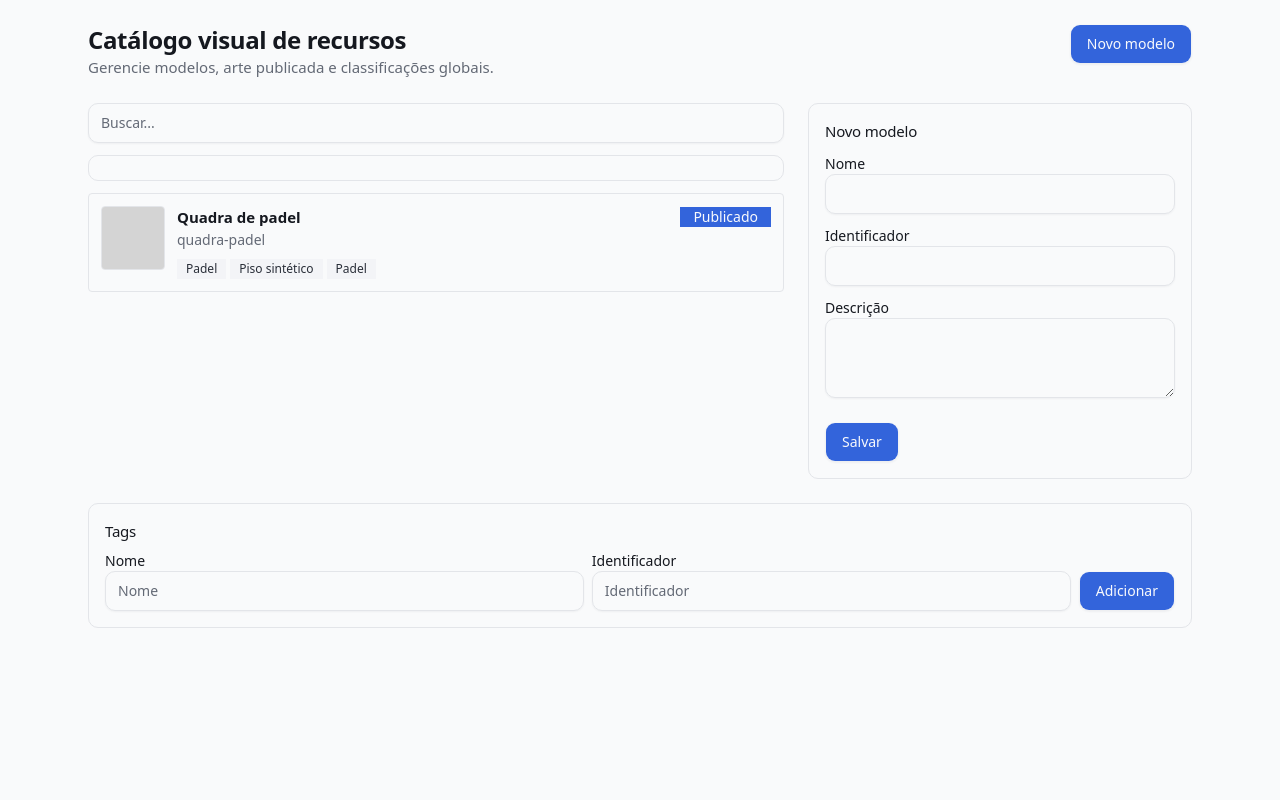
Scenario: ResourceVisualCatalogPage tag creation › opens the edit form and reports revision-list failures
Click the button "Quadra de padel" at point(133, 238), box [88,192,784,292]
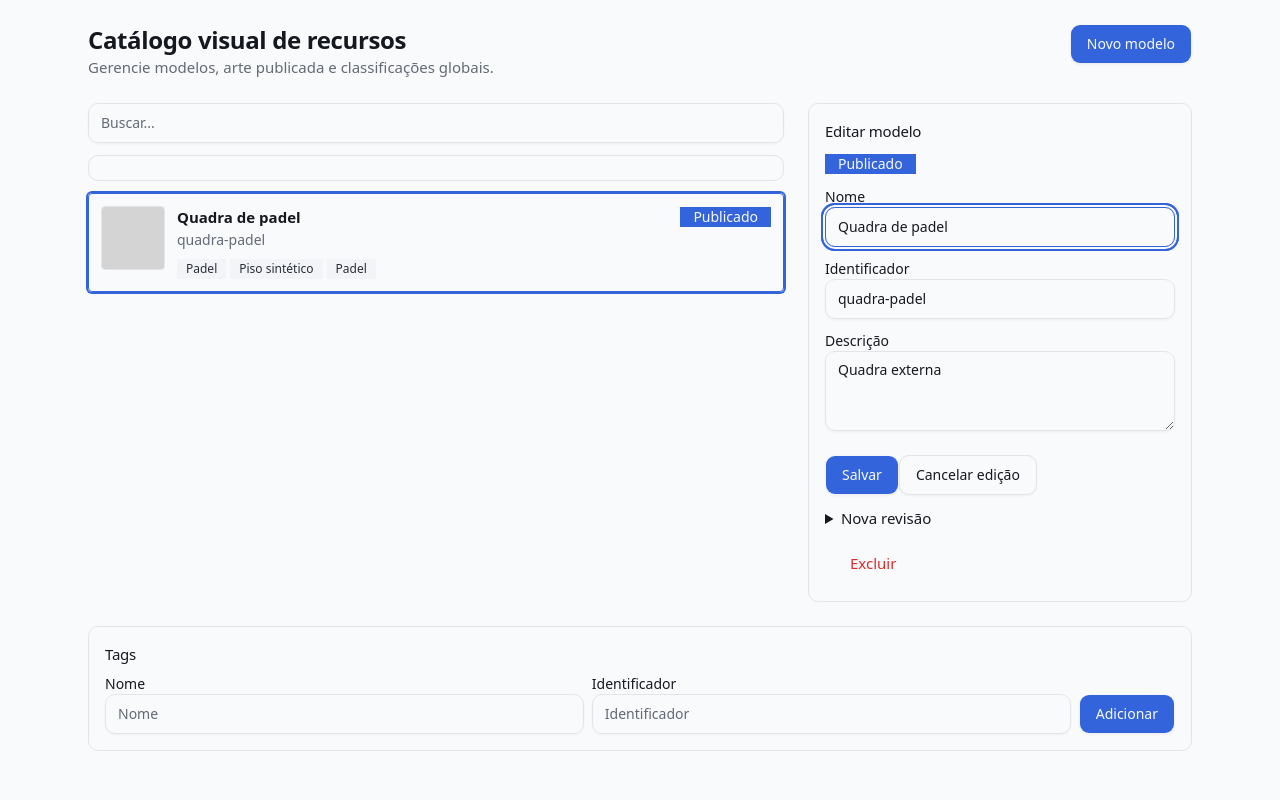
Check: the heading "Editar modelo" is shown, box [825,120,921,140]
